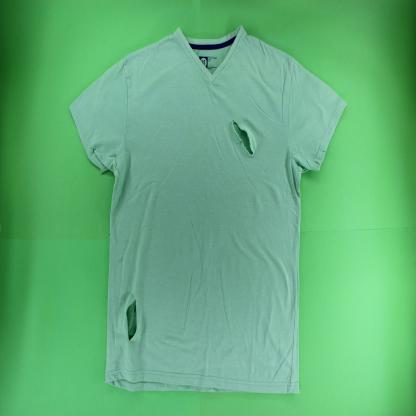hole: (230, 117, 257, 158), (123, 295, 139, 345)
